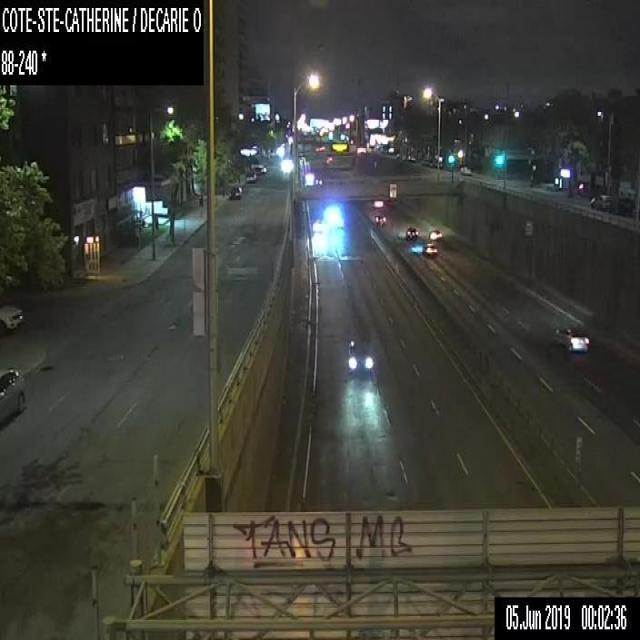vehicle: (0, 362, 27, 425), (552, 324, 588, 351), (346, 339, 374, 372), (0, 302, 24, 334), (589, 195, 610, 209), (422, 242, 437, 254), (229, 185, 241, 199), (405, 226, 417, 239), (429, 229, 441, 240), (374, 214, 386, 224), (246, 172, 256, 181), (460, 166, 471, 173)
